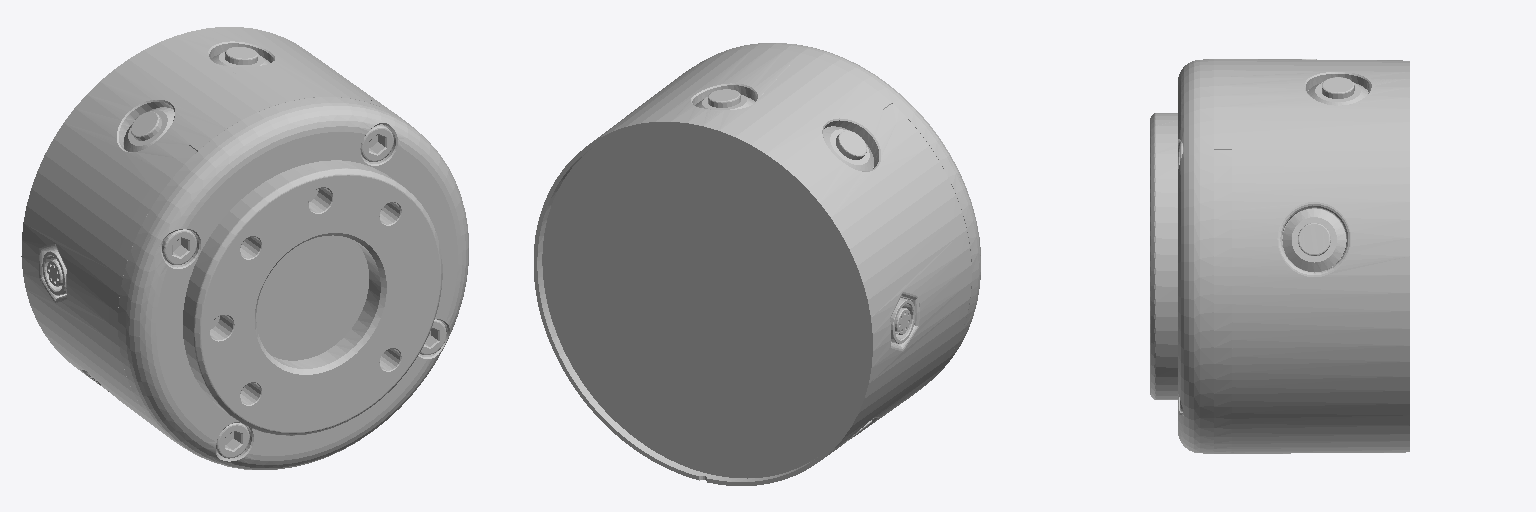
The model's file is tmr_iox.obj.
The picture shows the model from 3 angles: view 1: azimuth 30°, elevation 25°; view 2: azimuth 150°, elevation 25°; view 3: azimuth 270°, elevation 25°; orthographic projection.
Visible parts, largest first — view 1: 222, 2, 96, 240, 14, 12, 16, 18, 20, 22, 24, 26 (+6 smaller); view 2: 222, 2, 96, 240, 14, 12, 16, 20, 18, 22, 24, 26 (+8 smaller); view 3: 222, 2, 166, 210, 162, 158, 154, 176, 150, 146, 170, 142 (+22 smaller).
Part boxes in pixels (x1,y1,x2,y2): 222: (39, 27, 468, 469); 2: (23, 36, 304, 339); 96: (21, 28, 301, 380); 240: (117, 102, 174, 151); 14: (54, 123, 150, 186); 12: (56, 140, 150, 202); 16: (47, 156, 140, 218); 18: (45, 139, 138, 201); 20: (37, 171, 131, 235); 22: (38, 155, 130, 218); 24: (34, 190, 124, 253); 26: (31, 172, 121, 234); 222: (534, 43, 980, 481); 2: (720, 50, 962, 382); 96: (688, 55, 896, 485); 240: (823, 120, 880, 171); 14: (831, 153, 918, 232); 12: (843, 152, 929, 231); 16: (852, 168, 939, 247); 20: (859, 185, 946, 264); 18: (841, 170, 927, 248); 22: (850, 185, 938, 265); 24: (865, 202, 952, 281); 26: (857, 203, 944, 282); 222: (1150, 59, 1409, 453); 2: (1214, 59, 1409, 85); 166: (1232, 304, 1409, 328); 210: (1232, 167, 1409, 201); 162: (1232, 322, 1409, 345); 158: (1232, 340, 1409, 361); 154: (1232, 357, 1409, 376); 176: (1234, 275, 1409, 292); 150: (1232, 373, 1409, 390); 146: (1232, 387, 1409, 403); 170: (1236, 293, 1409, 310); 142: (1232, 401, 1409, 414).
Bounding box in the file's own units: 0.0867 × 0.0869 × 0.0569.